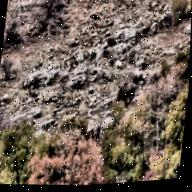boar: (110, 78, 144, 107)
